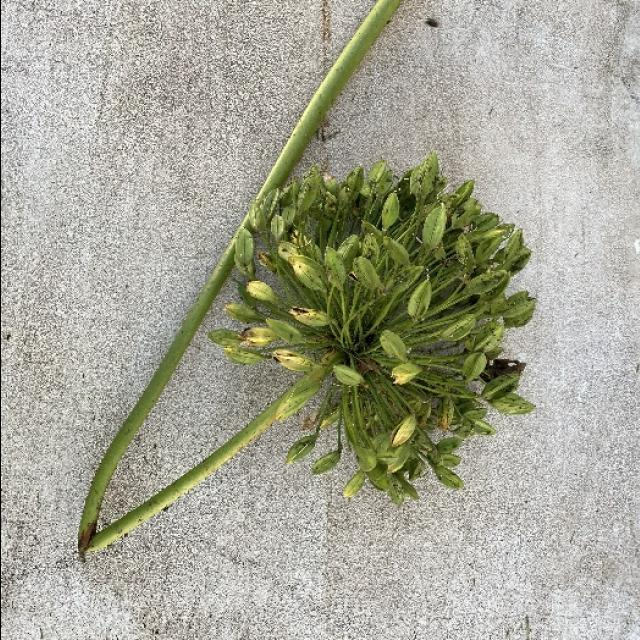organik: (99, 30, 517, 518)
